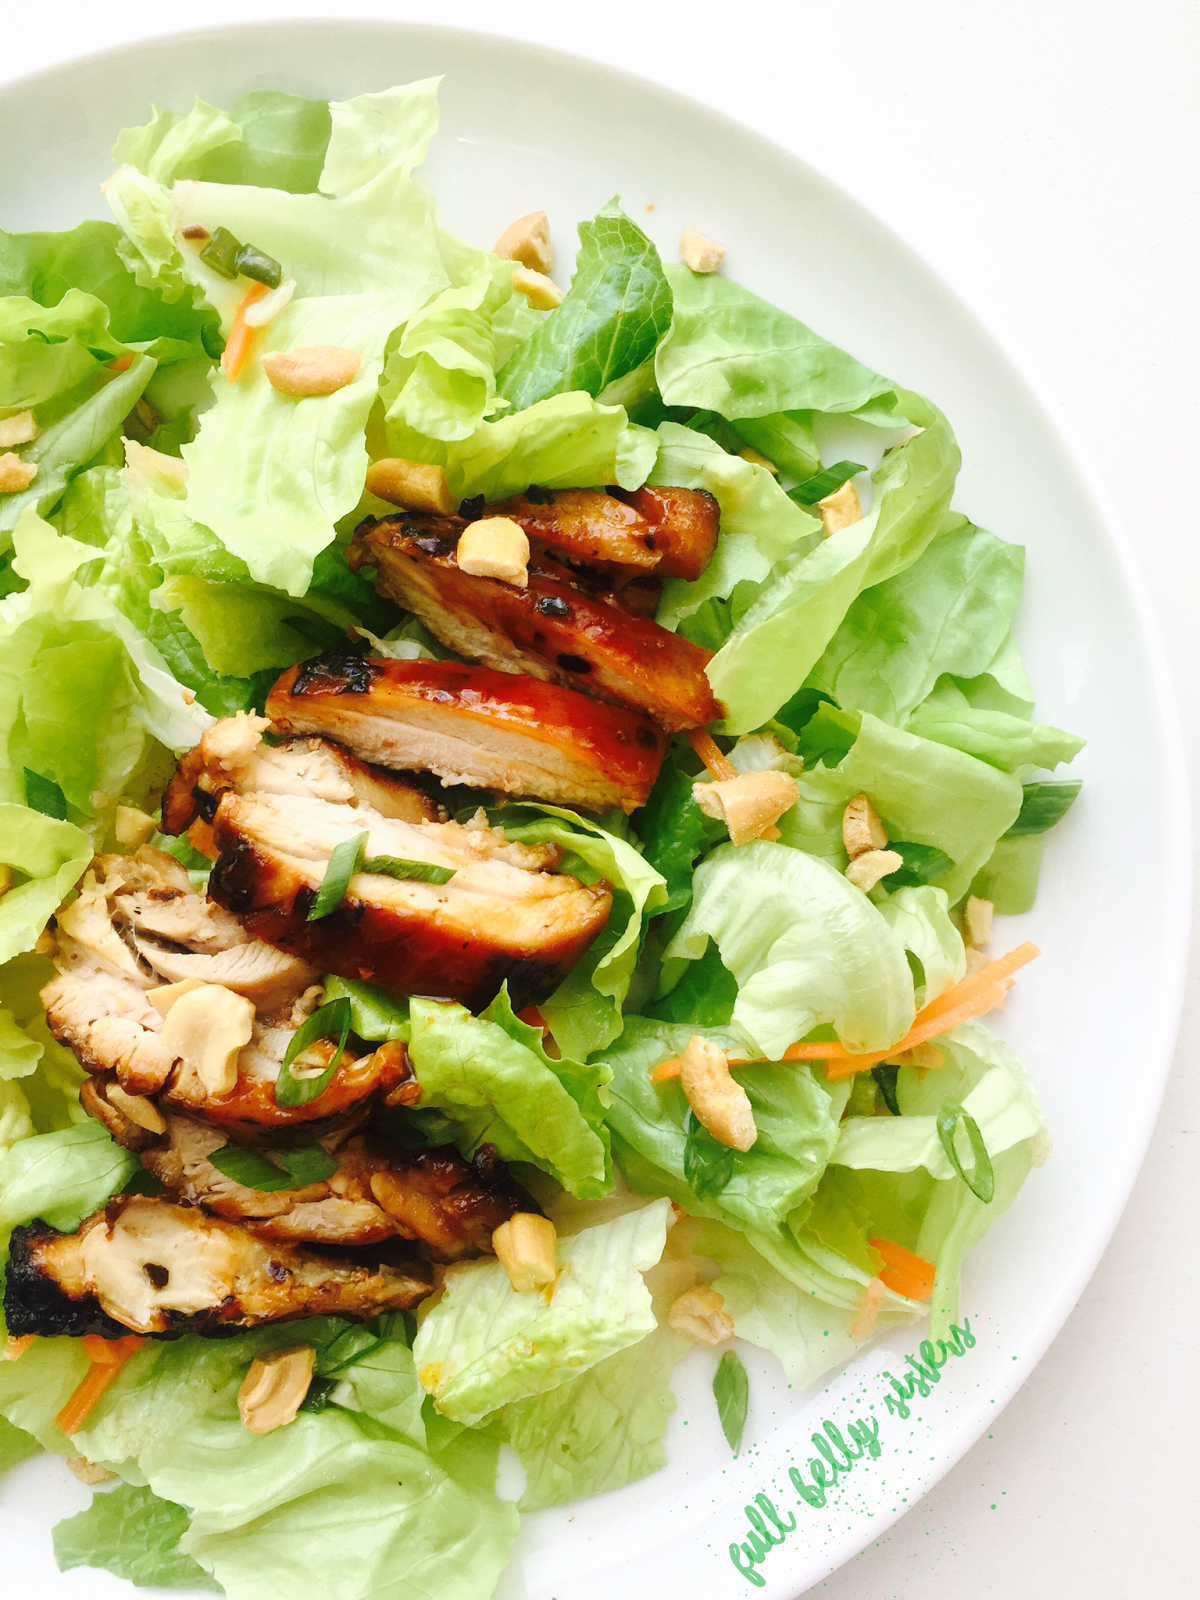chopped lettuce: (1, 278, 948, 1518)
